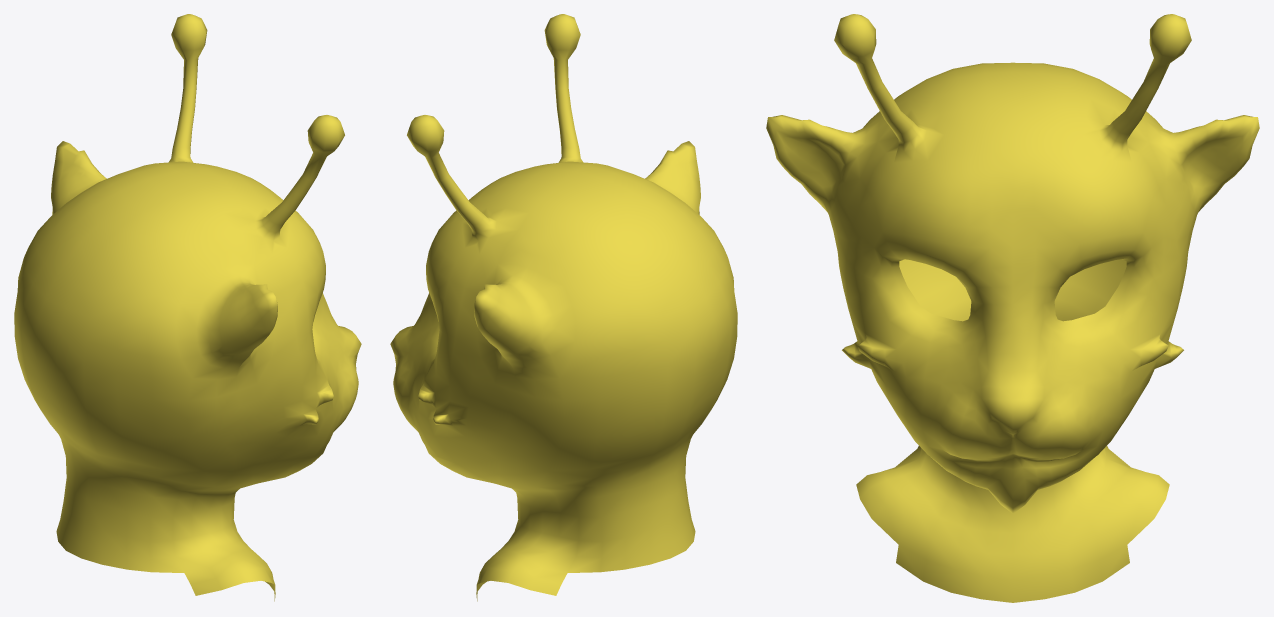
The model's file is Test_Head.fbx.
3 views of the same model, side by side, from view 1: azimuth 30°, elevation 25°; view 2: azimuth 150°, elevation 25°; view 3: azimuth 270°, elevation 25° (orthographic). The views are drawn at different scales.
Visible parts, largest first — view 1: Head; view 2: Head; view 3: Head.
Part boxes in pixels (<box>): Head: <box>14,14,361,601</box>; Head: <box>390,14,737,601</box>; Head: <box>766,14,1259,602</box>.
Size of the model in its own units: 182 by 275 by 210.
